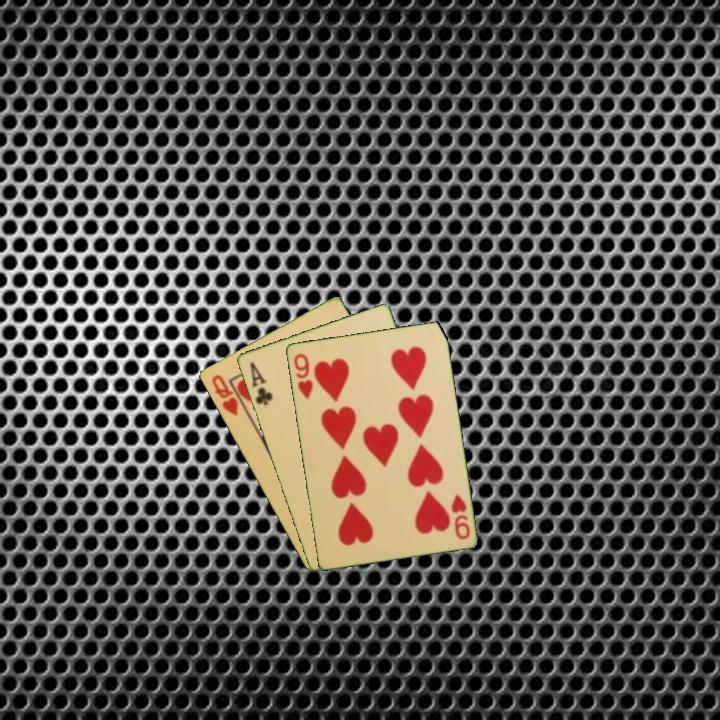9h: (290, 350, 315, 402), (447, 490, 472, 542)
Ac: (246, 358, 275, 408)
Qh: (208, 371, 241, 419)
